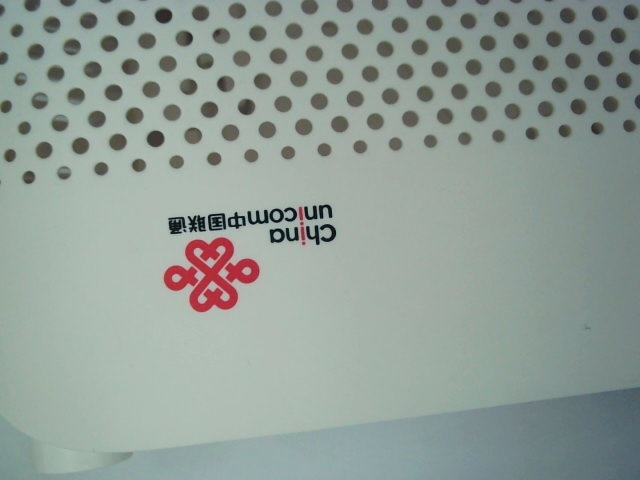AC_ChinaUnicom: (157, 202, 346, 314)
